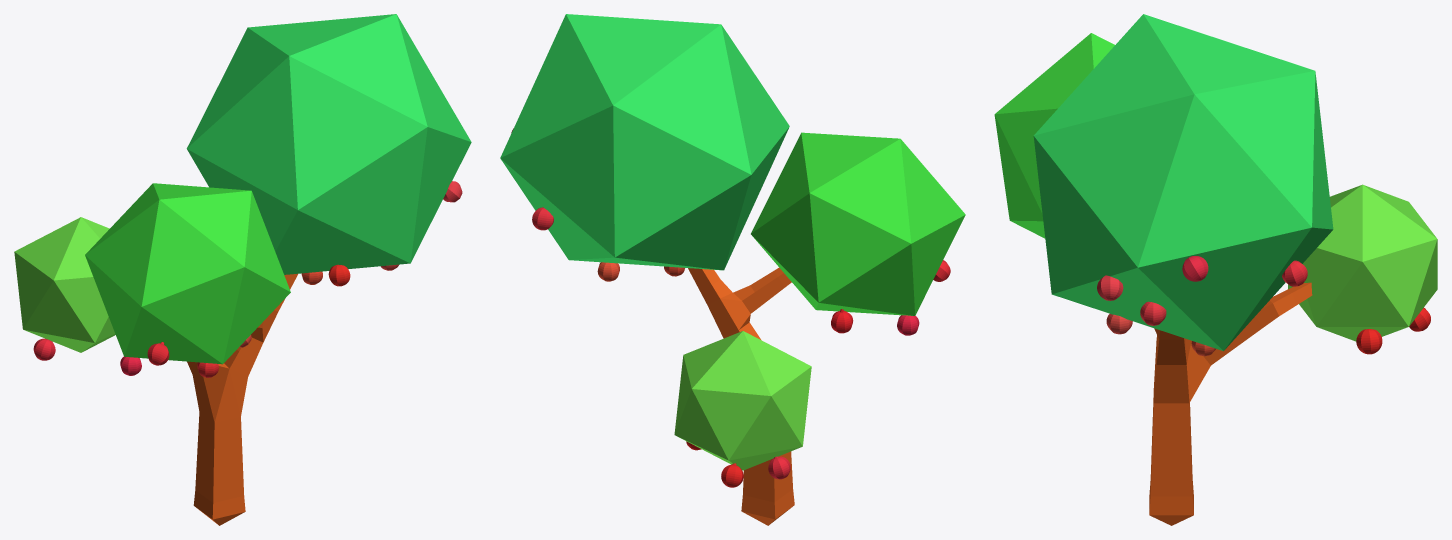
File: AppleTree.fbx
The picture shows the model from 3 angles, left to right: view 1: azimuth 30°, elevation 25°; view 2: azimuth 150°, elevation 25°; view 3: azimuth 270°, elevation 25°; orthographic projection. The views are drawn at different scales.
Visible parts, largest first — view 1: Icosphere.002, Icosphere.001, Icosphere, Cube; view 2: Icosphere.002, Icosphere.001, Icosphere, Cube; view 3: Icosphere.002, Icosphere, Cube, Icosphere.001, Sphere.015, Sphere.002, Sphere.013.
Part boxes in pixels (bbox=[...]): Icosphere.002: bbox=[186, 14, 471, 274]; Icosphere.001: bbox=[85, 183, 290, 364]; Icosphere: bbox=[14, 217, 115, 352]; Cube: bbox=[187, 273, 297, 525]; Icosphere.002: bbox=[500, 14, 789, 270]; Icosphere.001: bbox=[751, 132, 965, 315]; Icosphere: bbox=[674, 331, 811, 470]; Cube: bbox=[688, 267, 794, 525]; Icosphere.002: bbox=[1033, 14, 1333, 351]; Icosphere: bbox=[1288, 184, 1437, 341]; Cube: bbox=[1149, 282, 1312, 525]; Icosphere.001: bbox=[994, 33, 1114, 238]; Sphere.015: bbox=[1182, 256, 1208, 281]; Sphere.002: bbox=[1356, 329, 1382, 354]; Sphere.013: bbox=[1097, 275, 1123, 300].
Bounding box in the file's own units: 959 × 1134 × 836.
